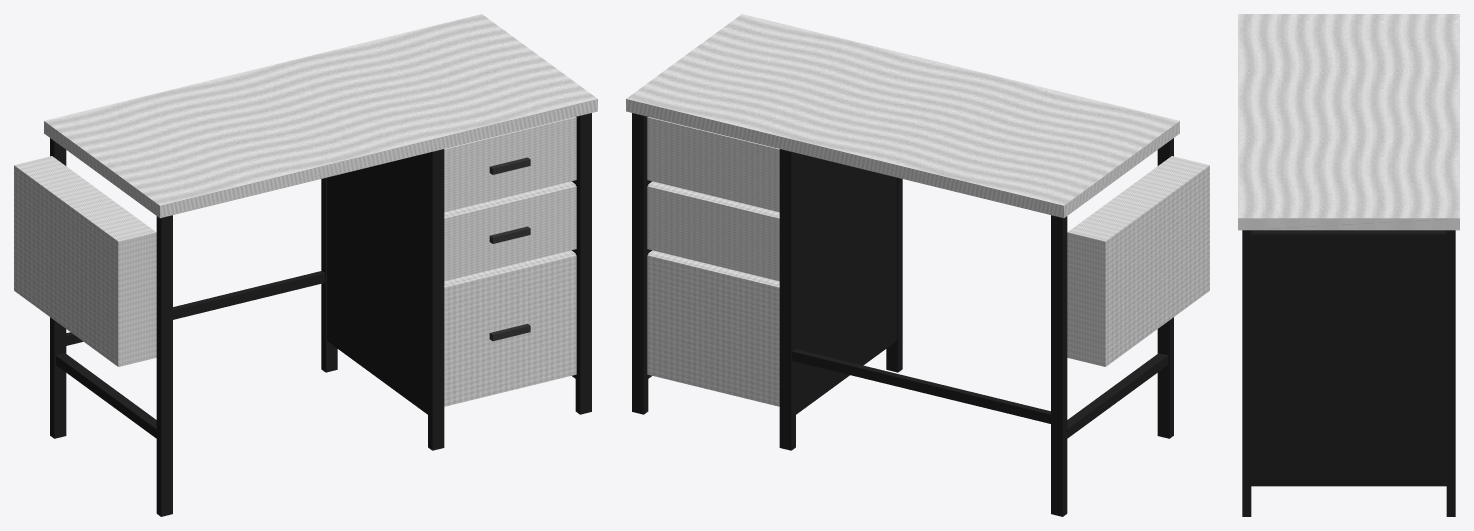
The picture shows the model from 3 angles, left to right: view 1: azimuth 30°, elevation 25°; view 2: azimuth 150°, elevation 25°; view 3: azimuth 270°, elevation 25°; orthographic projection. The views are drawn at different scales.
Parts seen in each view (by area): view 1: 1 tabletop, 18 side_storage_pocket, 10 cabinet_left_panel, 14 bottom_file_drawer, 13 middle_drawer, 12 top_drawer, 2 left_front_leg, 4 cabinet_left_front_leg, 6 right_front_leg, 9 back_crossbar, 3 left_back_leg, 8 left_side_crossbar (+1 smaller); view 2: 1 tabletop, 18 side_storage_pocket, 10 cabinet_left_panel, 14 bottom_file_drawer, 13 middle_drawer, 12 top_drawer, 3 left_back_leg, 5 cabinet_left_back_leg, 7 right_back_leg, 9 back_crossbar, 2 left_front_leg, 8 left_side_crossbar (+1 smaller); view 3: 11 cabinet_right_frame, 1 tabletop, 6 right_front_leg, 7 right_back_leg.
Boxes of the visible parts, x1,y1,x2,y2 form: 1 tabletop: (44,14,597,218); 18 side_storage_pocket: (14,156,156,366); 10 cabinet_left_panel: (327,153,427,414); 14 bottom_file_drawer: (444,250,576,406); 13 middle_drawer: (444,181,576,281); 12 top_drawer: (444,117,576,212); 2 left_front_leg: (156,215,172,516); 4 cabinet_left_front_leg: (428,149,444,450); 6 right_front_leg: (575,113,591,414); 9 back_crossbar: (66,271,325,345); 3 left_back_leg: (50,138,66,438); 8 left_side_crossbar: (55,353,156,438); 1 tabletop: (626,14,1179,218); 18 side_storage_pocket: (1067,156,1209,366); 10 cabinet_left_panel: (796,153,896,414); 14 bottom_file_drawer: (647,250,779,406); 13 middle_drawer: (647,181,779,281); 12 top_drawer: (647,117,779,212); 3 left_back_leg: (1051,215,1067,516); 5 cabinet_left_back_leg: (779,149,795,450); 7 right_back_leg: (632,113,648,414); 9 back_crossbar: (792,349,1050,423); 2 left_front_leg: (1157,138,1173,438); 8 left_side_crossbar: (1067,353,1168,438); 11 cabinet_right_frame: (1251,230,1446,486); 1 tabletop: (1238,14,1459,230); 6 right_front_leg: (1242,230,1251,516); 7 right_back_leg: (1446,230,1455,516).
Size of the model in its own units: 1.58 by 1 by 0.67.
4 materials, 2 textured.
